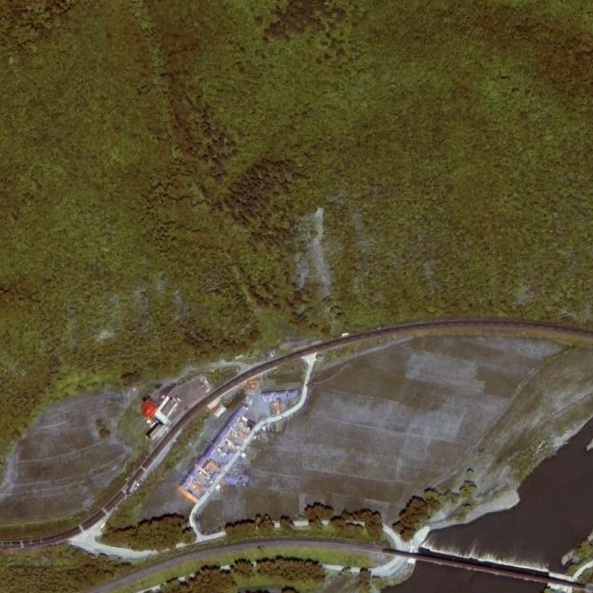slope: (289, 204, 339, 299)
